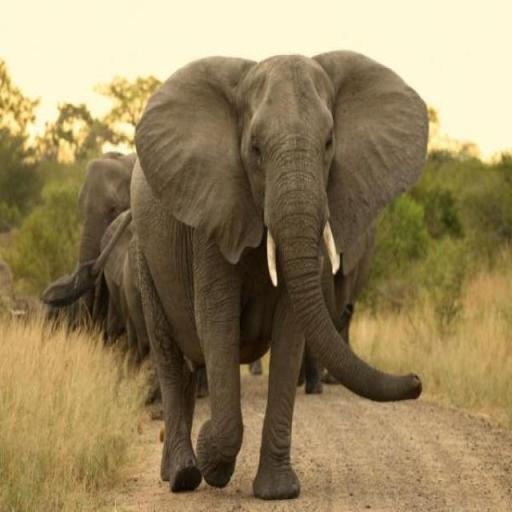Elephant: (128, 47, 430, 499)
